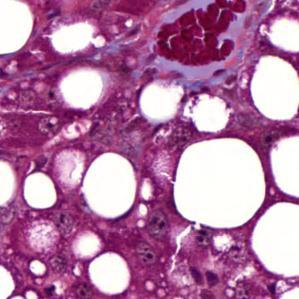steatosis: (174, 134, 268, 231), (80, 150, 139, 219), (88, 251, 132, 294), (21, 170, 59, 210)
